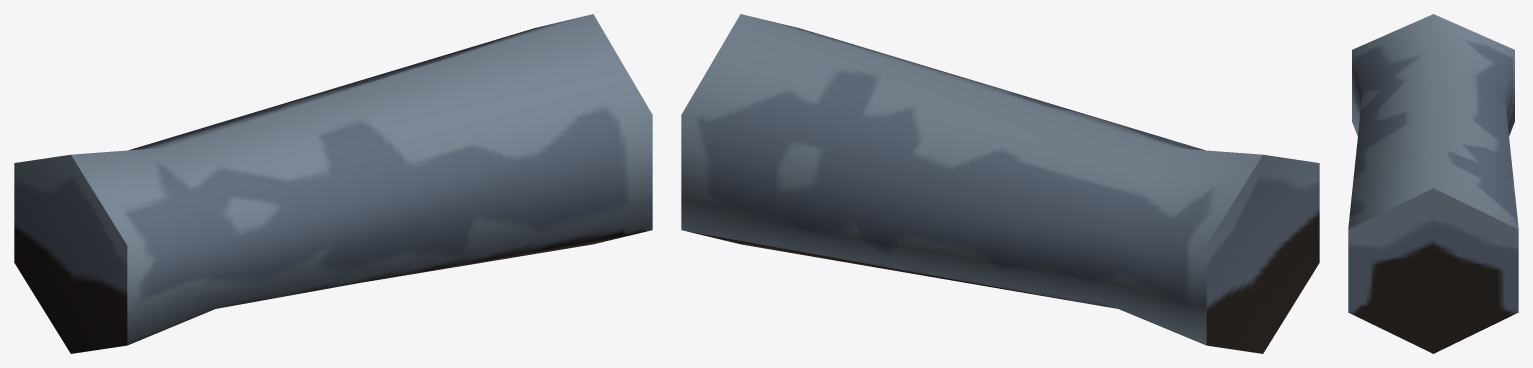
The model's file is Brace1.fbx.
3 renders of one model, left to right at view 1: azimuth 30°, elevation 25°; view 2: azimuth 150°, elevation 25°; view 3: azimuth 270°, elevation 25°, orthographic. The views are drawn at different scales.
Visible parts, largest first — view 1: Brace1; view 2: Brace1; view 3: Brace1.
Boxes of the visible parts, bbox=[...] form: Brace1: bbox=[14, 14, 652, 353]; Brace1: bbox=[681, 14, 1319, 353]; Brace1: bbox=[1348, 14, 1518, 353].
Bounding box in the file's own units: 28.48 × 12 × 11.18.
